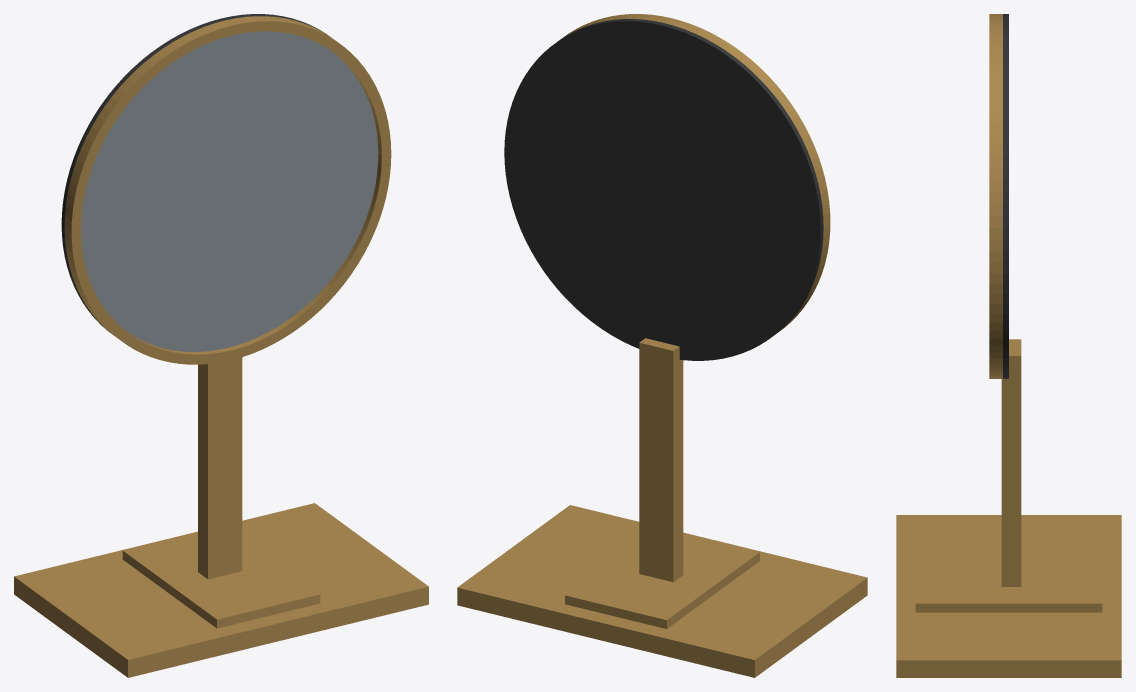
Rendered from variant-round.glb.
3 renders of one model, left to right at view 1: azimuth 30°, elevation 25°; view 2: azimuth 150°, elevation 25°; view 3: azimuth 270°, elevation 25°, orthographic.
Visible parts, largest first — view 1: mirror-surface, mirror-platform, mirror-frame, mirror-post, mirror-base, mirror-back; view 2: mirror-back, mirror-platform, mirror-post, mirror-base, mirror-frame; view 3: mirror-platform, mirror-base, mirror-frame, mirror-post, mirror-back.
Part boxes in pixels (x1=…): mirror-surface: x1=81, y1=31, x2=378, y2=351; mirror-platform: x1=14, y1=503, x2=428, y2=677; mirror-frame: x1=64, y1=16, x2=391, y2=364; mirror-post: x1=198, y1=357, x2=242, y2=579; mirror-base: x1=122, y1=532, x2=320, y2=628; mirror-back: x1=61, y1=14, x2=328, y2=332; mirror-back: x1=504, y1=19, x2=823, y2=360; mirror-platform: x1=457, y1=505, x2=867, y2=677; mirror-post: x1=639, y1=338, x2=683, y2=582; mirror-base: x1=565, y1=533, x2=759, y2=628; mirror-frame: x1=563, y1=14, x2=830, y2=332; mirror-platform: x1=896, y1=515, x2=1121, y2=677; mirror-base: x1=915, y1=554, x2=1102, y2=612; mirror-frame: x1=989, y1=14, x2=1002, y2=378; mirror-post: x1=1001, y1=339, x2=1021, y2=586; mirror-back: x1=1003, y1=14, x2=1008, y2=378.
Size of the model in its own units: 0.744 by 1.29 by 0.46.
